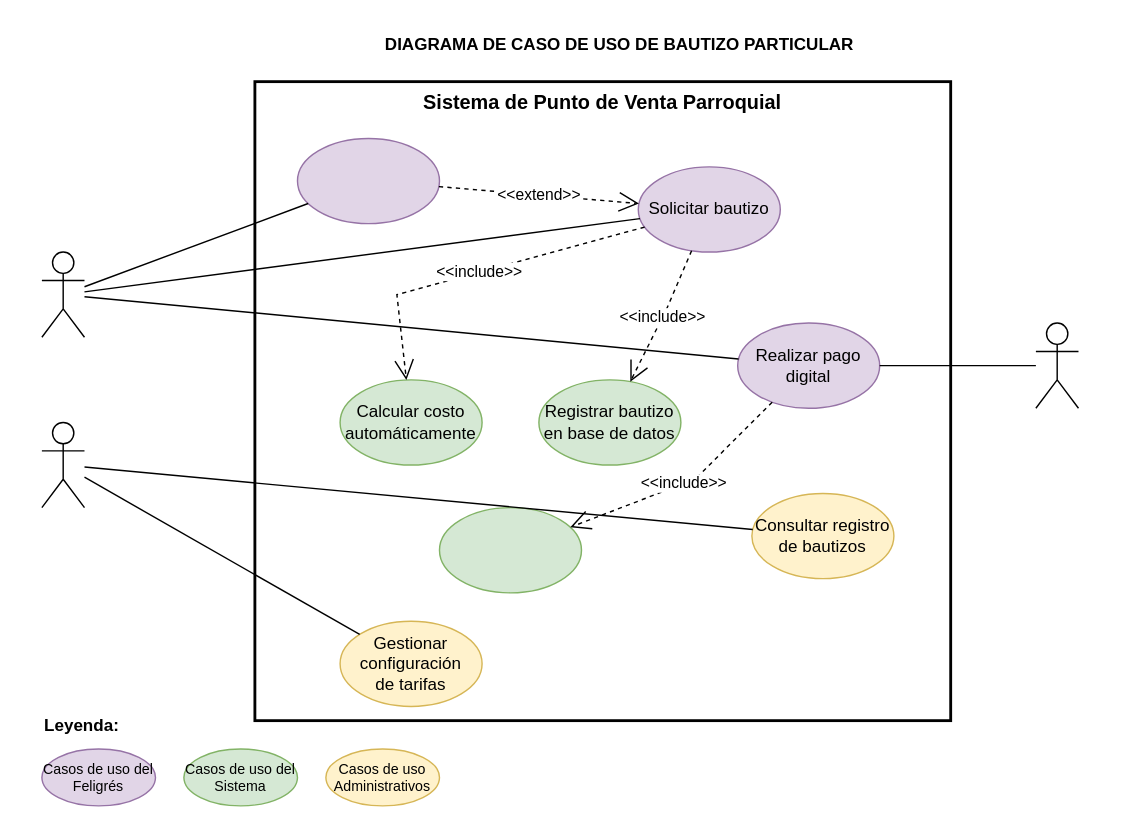
Some shapes in this 1132 by 831 pixel diagram are drawn without their labels. The shapes that lost their labels are listed below. From the top down, each one's centre as x and y in pixels, then its label:
point (367, 180): Ingresar datos del niño/a
point (62, 294): Feligrés
point (1056, 365): Sistema de Pagos Digital
point (62, 464): Secretaría Parroquial
point (509, 549): Emitir recibo digital
